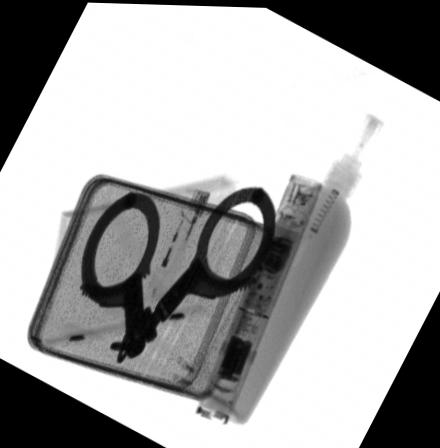Baton: (194, 171, 323, 422)
HandCuffs: (78, 184, 277, 366)
Lighter: (143, 188, 209, 305)
